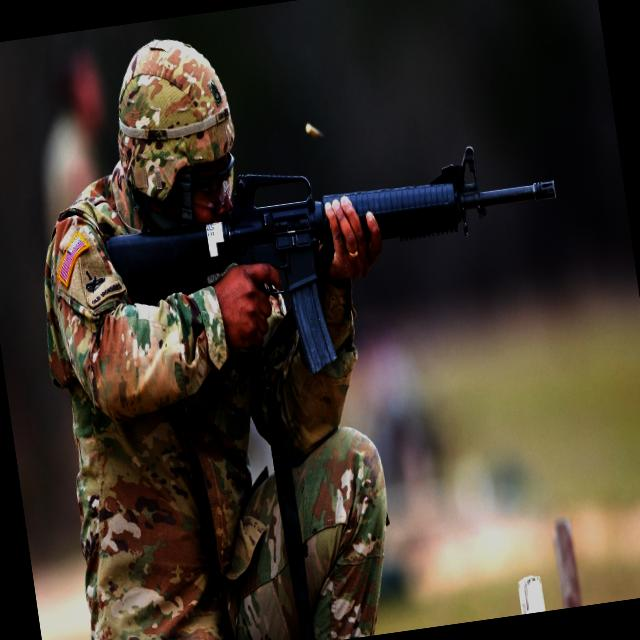m16: (83, 51, 596, 419)
